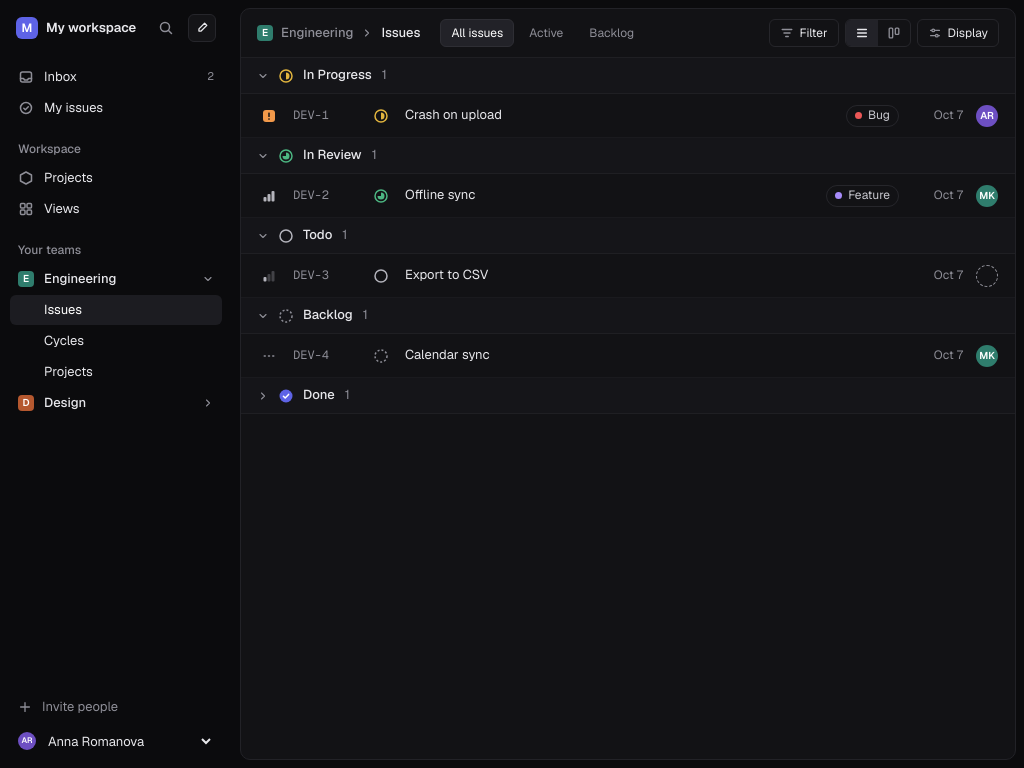
IssueListPage › applies edits optimistically and rolls back with a toast when saving fails
Click the button named "Priority: Low": {"x": 269, "y": 276} [257,264,281,288]
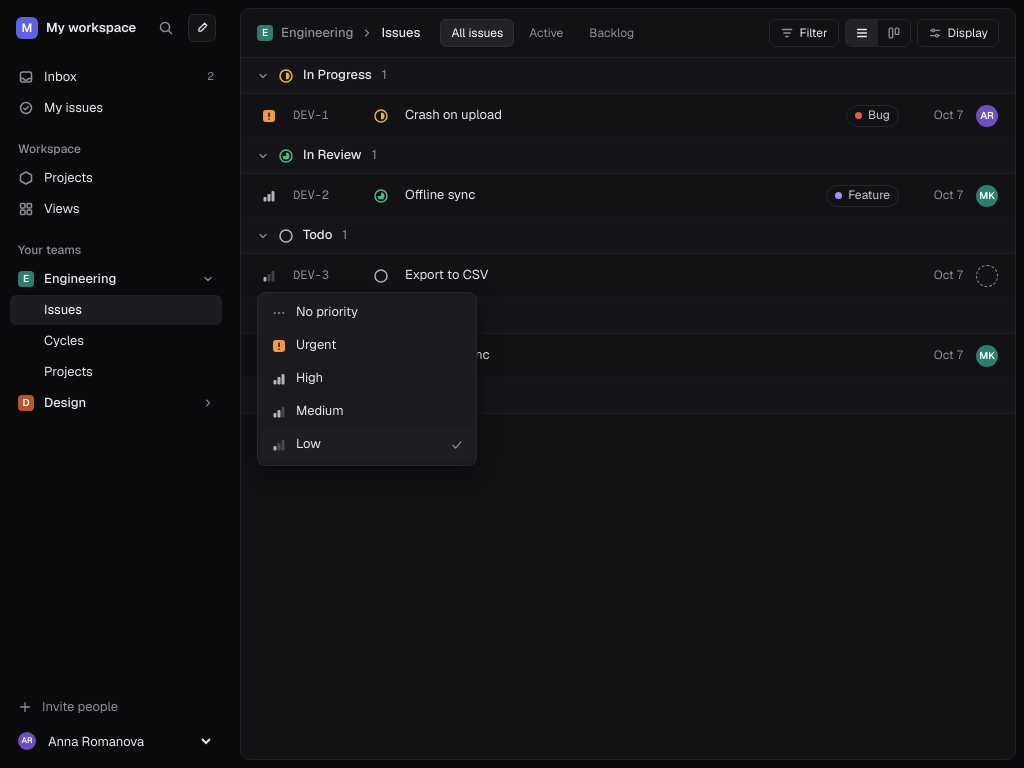
Click the option "Urgent": {"x": 367, "y": 346} [262,330,472,362]
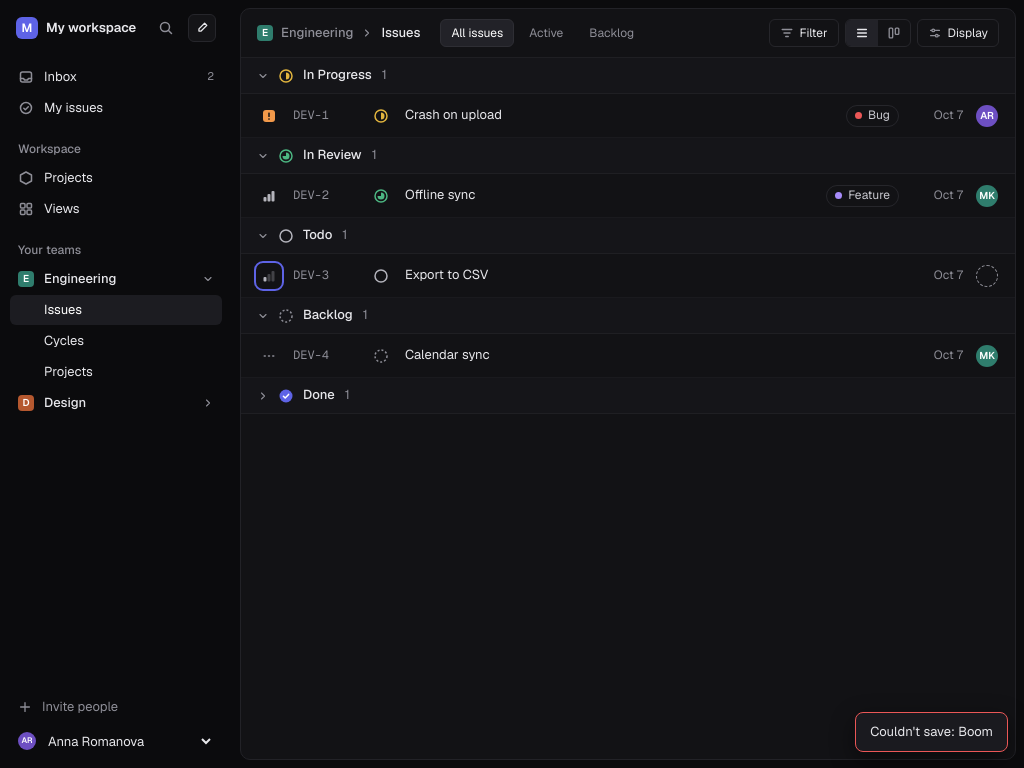
Expected: the button named "Priority: Low" is shown, [257,264,281,288]
Expected: the text "Couldn't save: Boom" is shown, [855,712,1008,752]
